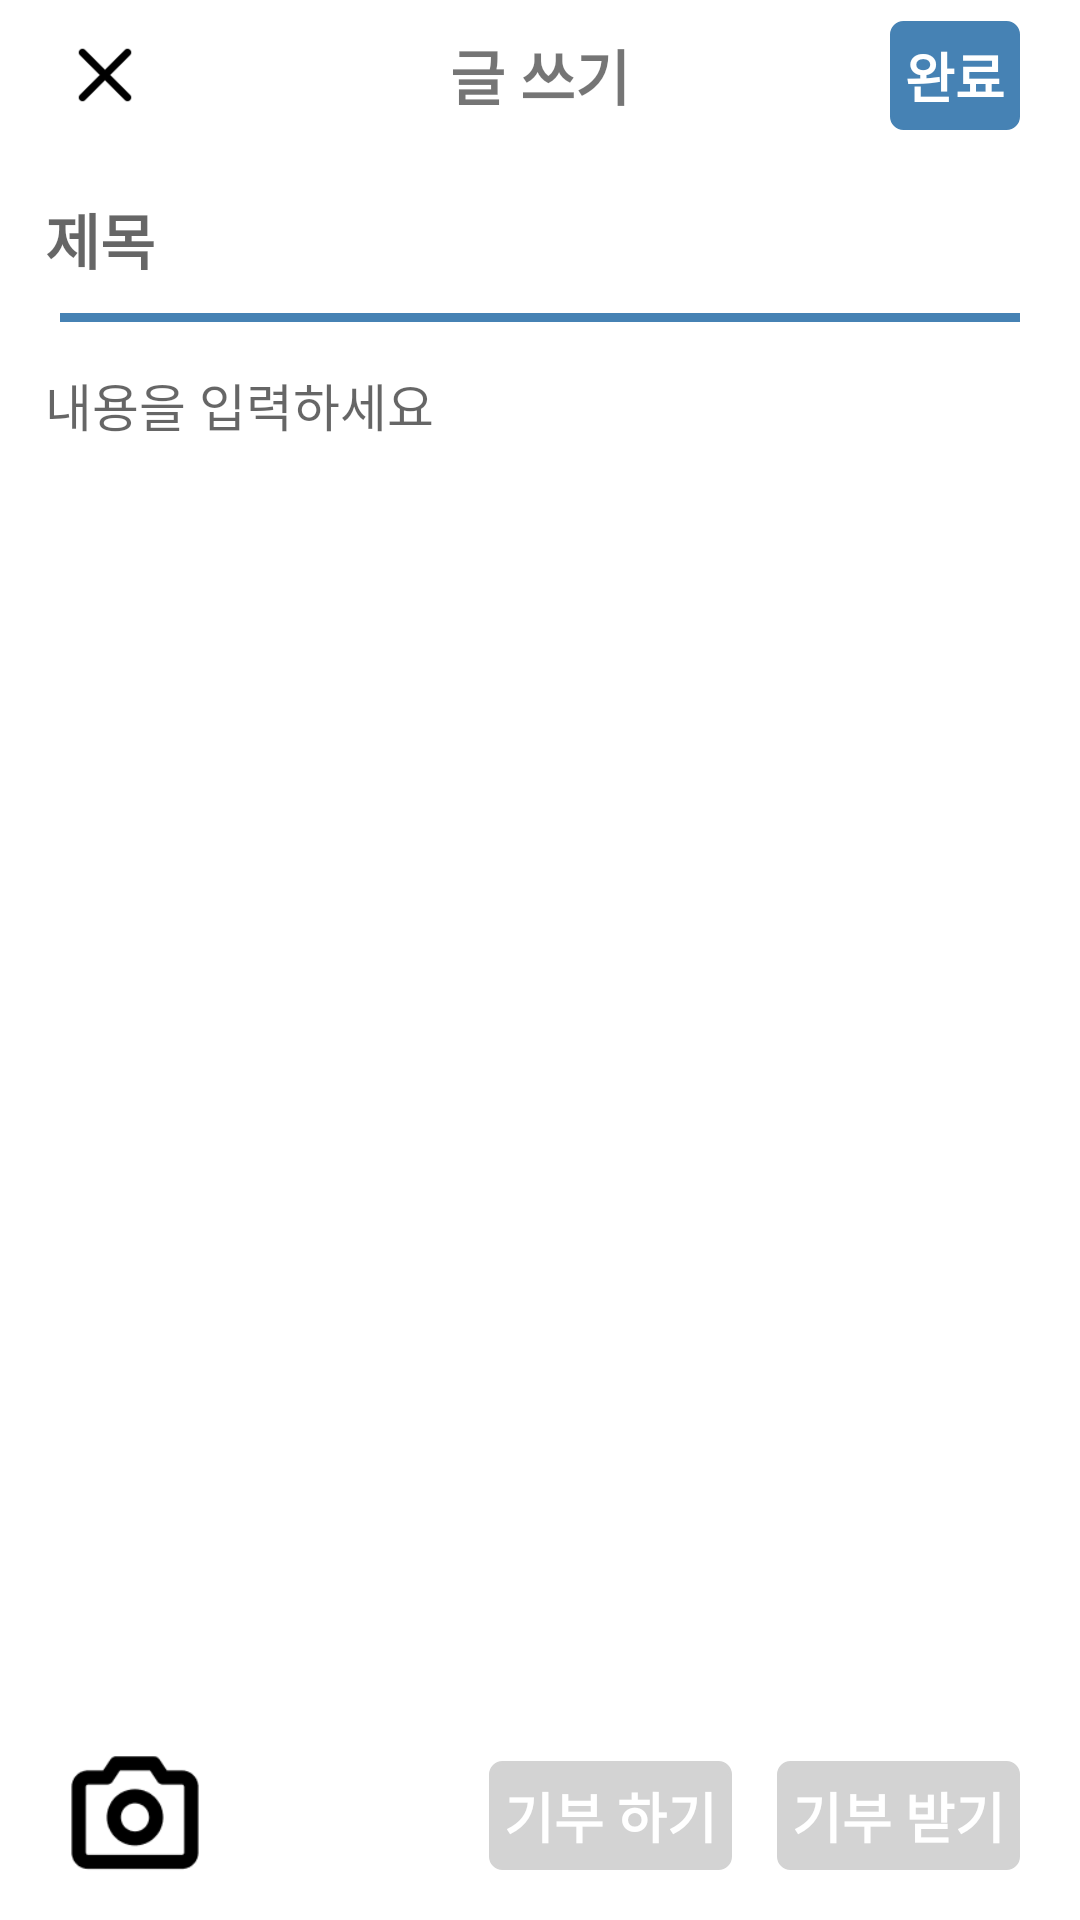

Screen size 1080 × 1920. Icon name, then its box in pixels as (x1, y1, x2, y2):
cameara: (71, 1756, 199, 1870)
cancel: (78, 48, 132, 102)
